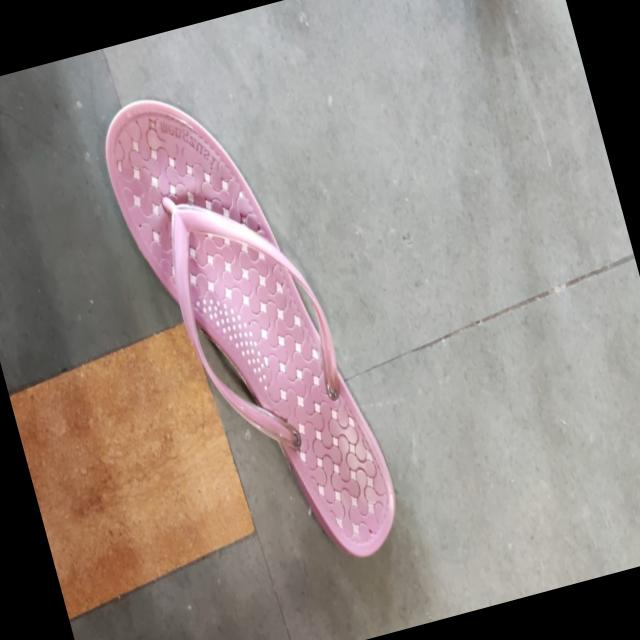Others: (29, 19, 450, 640)
